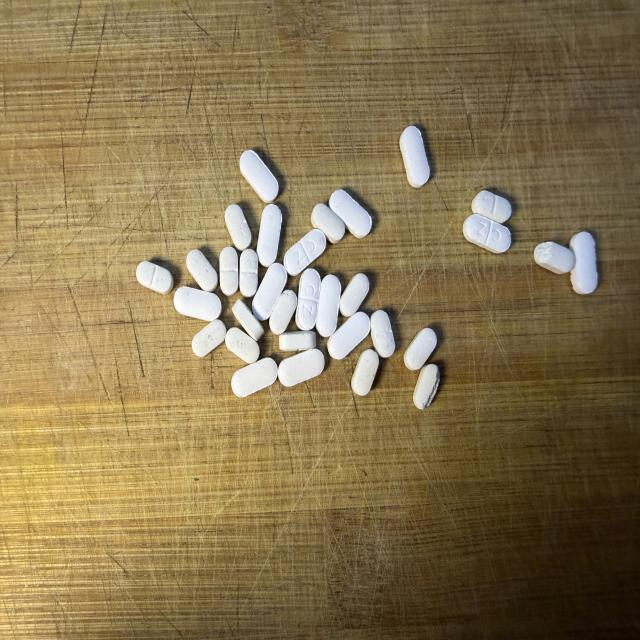pill: (329, 190, 372, 238), (252, 263, 287, 321), (240, 150, 278, 203), (328, 312, 370, 359), (284, 229, 326, 275), (569, 231, 598, 295), (463, 214, 510, 253), (231, 358, 277, 397), (400, 126, 429, 187), (279, 349, 324, 386), (174, 287, 221, 322), (257, 204, 282, 267), (316, 275, 341, 337), (296, 269, 320, 330), (404, 328, 436, 370), (232, 299, 264, 341), (311, 204, 345, 243), (224, 204, 252, 251), (186, 250, 217, 292), (534, 242, 575, 273), (351, 350, 379, 395), (192, 320, 226, 357), (472, 191, 511, 223), (340, 274, 369, 317), (225, 327, 259, 363), (270, 290, 297, 335), (137, 261, 173, 294), (371, 310, 395, 357), (414, 364, 439, 409), (219, 247, 238, 295), (240, 249, 258, 297), (279, 331, 316, 351)
